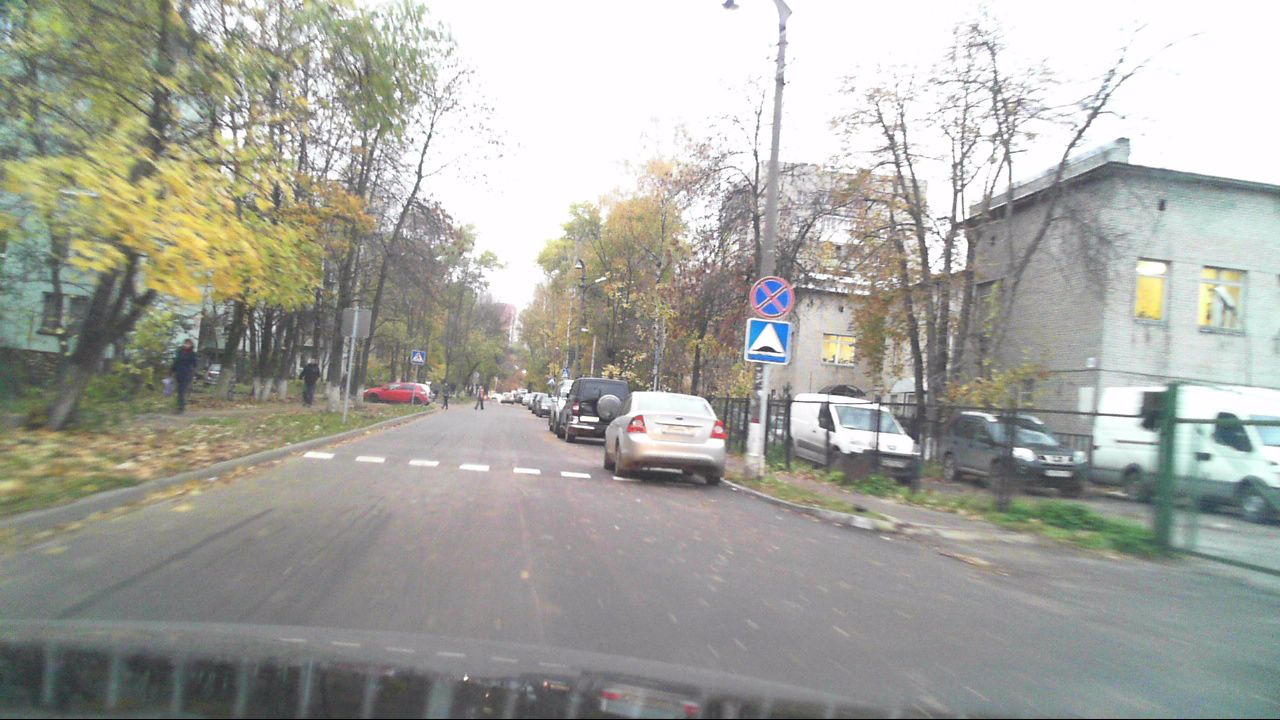No Parking: (749, 276, 794, 320)
